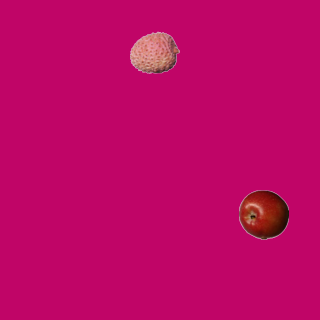Apple Braeburn: (238, 189, 288, 239)
Lychee: (129, 27, 179, 77)
